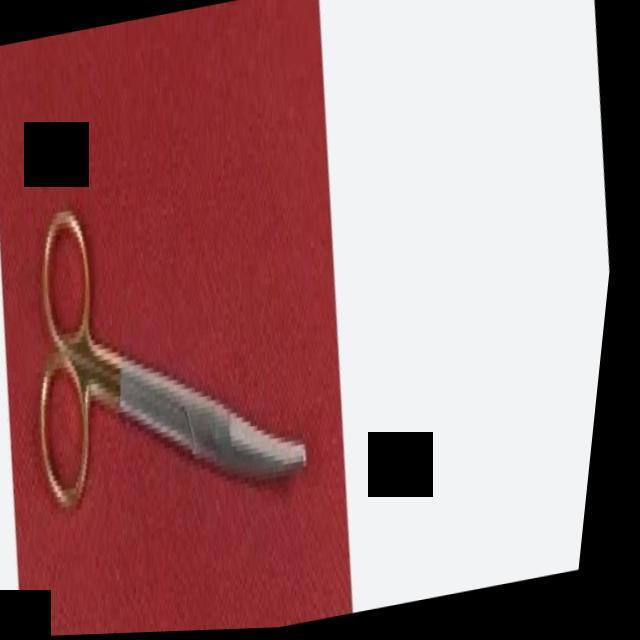Curved Mayo: (6, 178, 347, 558)
